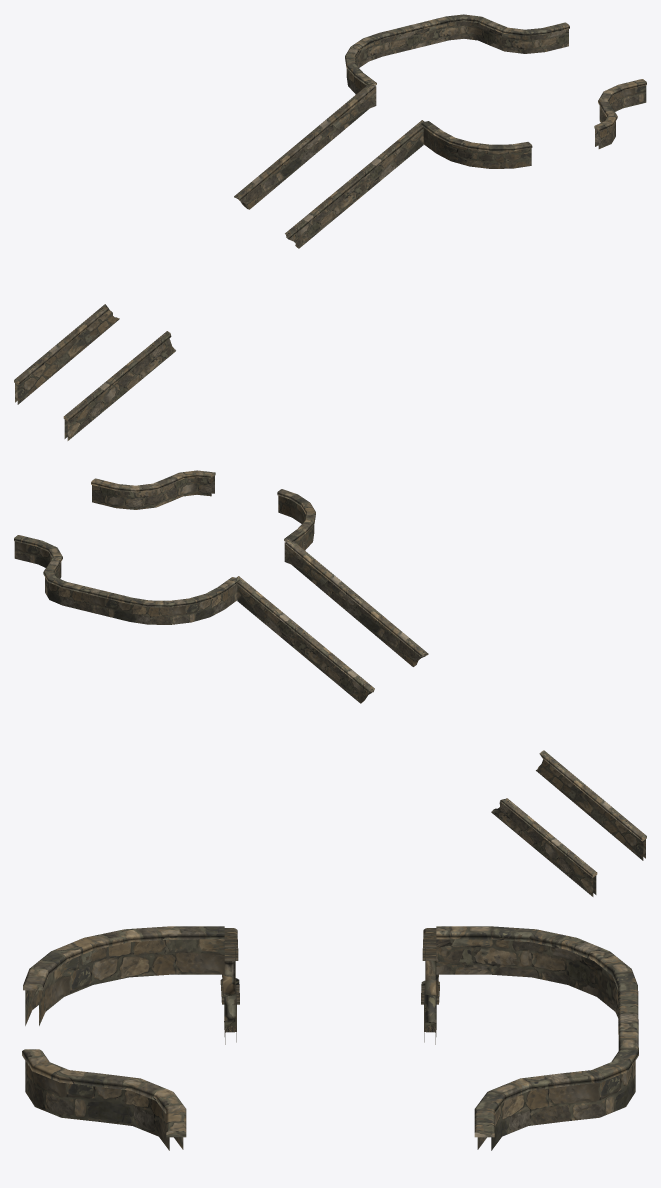
Rendered from CaveBridgeRailings.fbx.
3 views of the same model, one above another, from view 1: azimuth 30°, elevation 25°; view 2: azimuth 150°, elevation 25°; view 3: azimuth 270°, elevation 25° (orthographic). The views are drawn at different scales.
Visible parts, largest first — view 1: CaveBridgeRailings; view 2: CaveBridgeRailings; view 3: CaveBridgeRailings.
Part boxes in pixels (x1,y1,x2,y2): CaveBridgeRailings: (14,14,646,440); CaveBridgeRailings: (14,470,646,896); CaveBridgeRailings: (22,926,638,1150).
Size of the model in its own units: 30.98 by 12.2 by 14.65.
